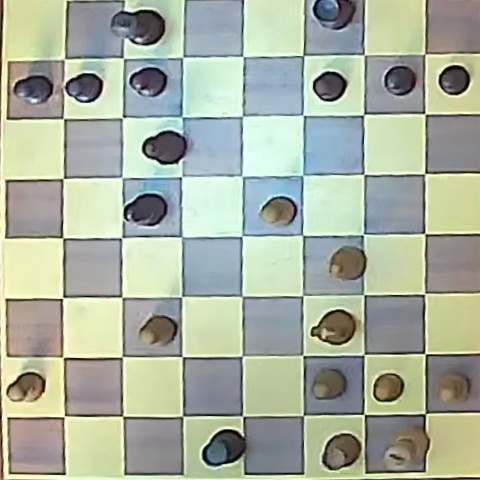black-bishop: (124, 193, 167, 227), (142, 131, 185, 165)
black-king: (112, 9, 165, 46)
black-pawn: (14, 75, 53, 105), (129, 67, 167, 97), (65, 72, 103, 102), (312, 71, 346, 101), (384, 65, 416, 95), (438, 65, 470, 95)
black-rook: (202, 429, 246, 467), (312, 0, 355, 30)
white-bishop: (328, 246, 366, 281)
white-king: (383, 427, 429, 471)
white-knight: (311, 310, 355, 346)
white-pawn: (6, 372, 45, 403), (138, 315, 175, 346), (259, 196, 296, 226), (312, 369, 345, 399), (437, 373, 468, 403), (373, 374, 404, 402)
white-rook: (322, 434, 361, 471)
